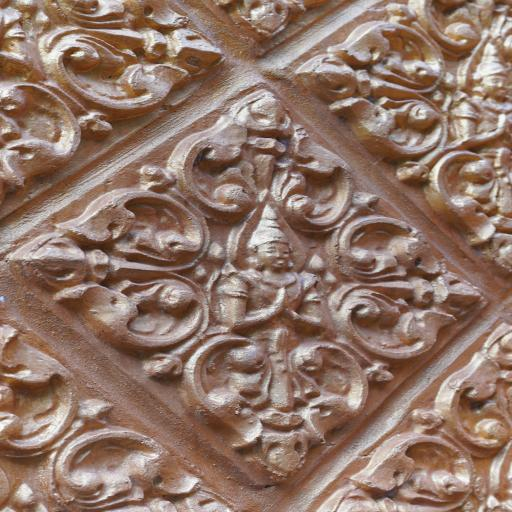la: (161, 327, 388, 478), (22, 186, 214, 361), (161, 88, 373, 229), (322, 208, 490, 356), (298, 13, 448, 165), (51, 0, 224, 118), (45, 419, 232, 512), (319, 432, 484, 512), (417, 143, 512, 279), (0, 323, 95, 456), (0, 76, 92, 209), (426, 321, 512, 446), (206, 0, 339, 42), (407, 0, 512, 53)
than: (206, 200, 340, 332), (445, 35, 512, 153), (0, 0, 40, 82)
